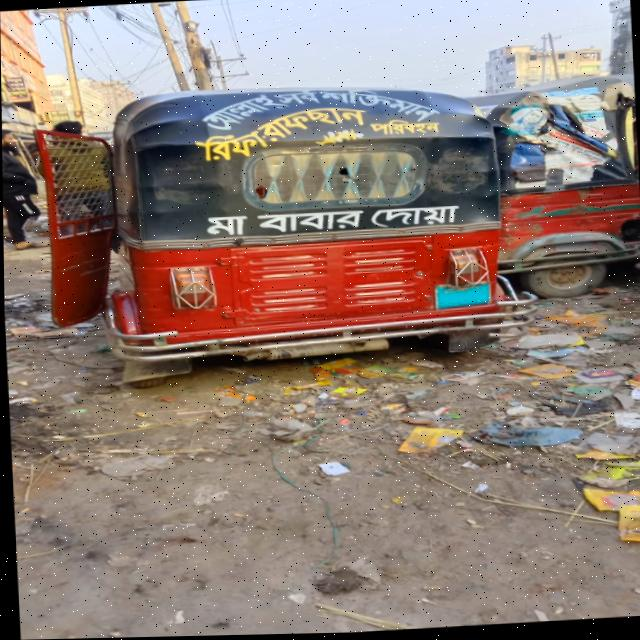cng: (28, 49, 534, 407)
